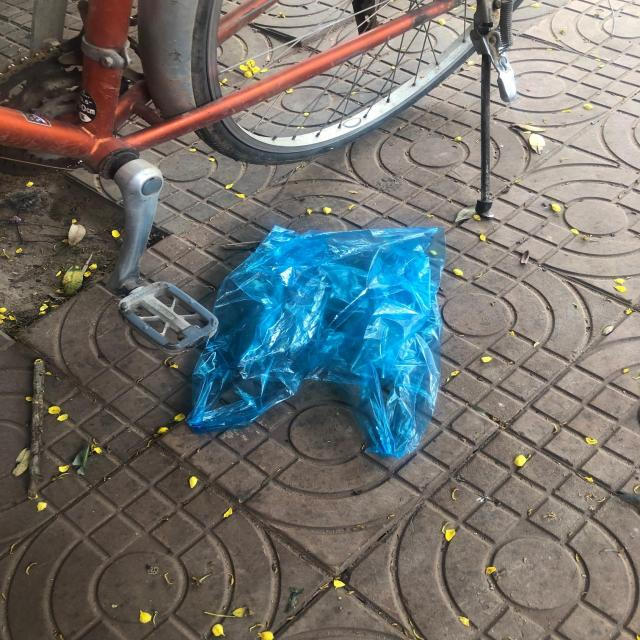Single-use carrier bag: (185, 225, 448, 459)
